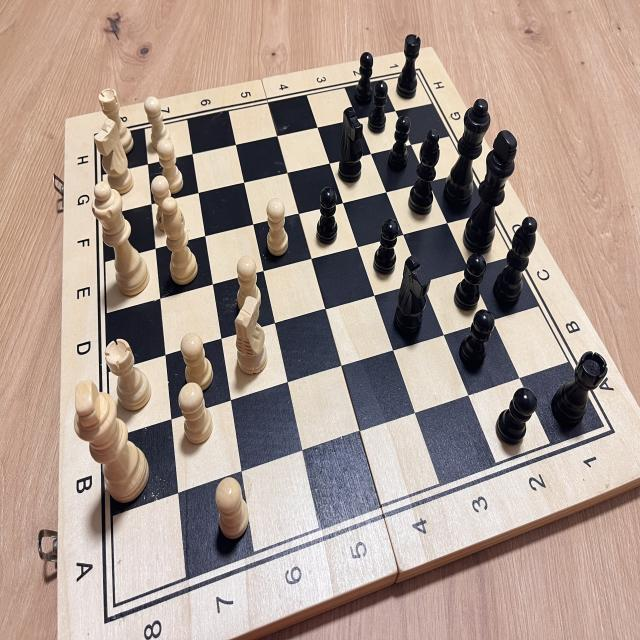black-bishop: (492, 212, 539, 328), (400, 124, 442, 226)
black-king: (461, 125, 523, 257)
black-knight: (389, 250, 435, 343), (329, 100, 371, 184)
black-pawn: (494, 382, 544, 457), (453, 305, 496, 381), (449, 246, 490, 321), (381, 109, 416, 181), (371, 214, 402, 278), (313, 182, 343, 246), (364, 75, 393, 137), (348, 46, 378, 103)
black-queen: (443, 85, 491, 222)
black-rook: (546, 342, 610, 442), (388, 23, 435, 107)
white-bishop: (158, 193, 200, 285)
white-king: (65, 374, 156, 514)
white-knight: (91, 114, 139, 198), (232, 296, 272, 382)
white-pawn: (210, 470, 254, 550), (173, 377, 218, 450), (176, 326, 220, 397), (230, 252, 269, 326), (146, 170, 187, 240), (260, 192, 298, 262), (139, 89, 176, 158), (151, 135, 188, 196)
white-queen: (86, 182, 152, 302)
white-rook: (100, 332, 157, 423), (97, 83, 140, 163)
